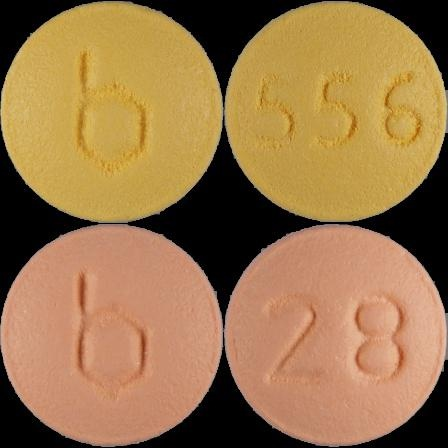51285-087: (0, 0, 224, 224)
